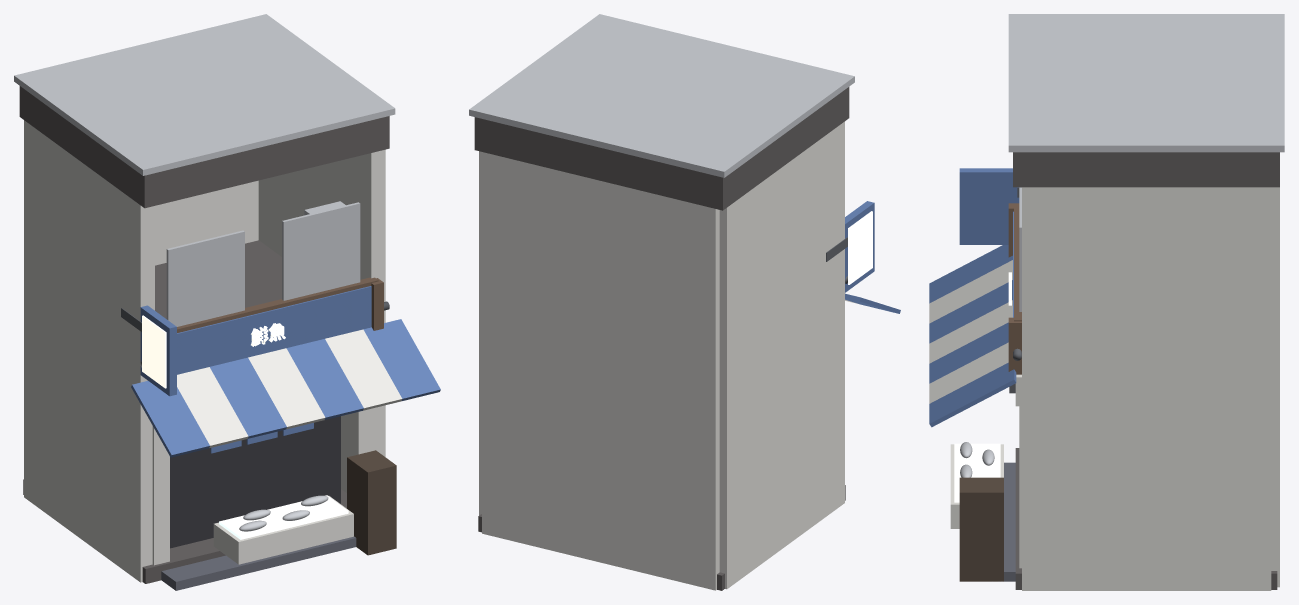
The model's file is prop_shop_sakanaya.glb.
The picture shows the model from 3 angles, left to right: view 1: azimuth 30°, elevation 25°; view 2: azimuth 150°, elevation 25°; view 3: azimuth 270°, elevation 25°; orthographic projection. The views are drawn at different scales.
Parts seen in each view (by area): view 1: shop_sakanaya; view 2: shop_sakanaya; view 3: shop_sakanaya.
Boxes of the visible parts, left/top/right/bottom form: shop_sakanaya: left=14, top=14, right=440, bottom=590; shop_sakanaya: left=469, top=14, right=900, bottom=590; shop_sakanaya: left=929, top=14, right=1284, bottom=590.
Size of the model in its own units: 3.73 by 5.54 by 3.99.
